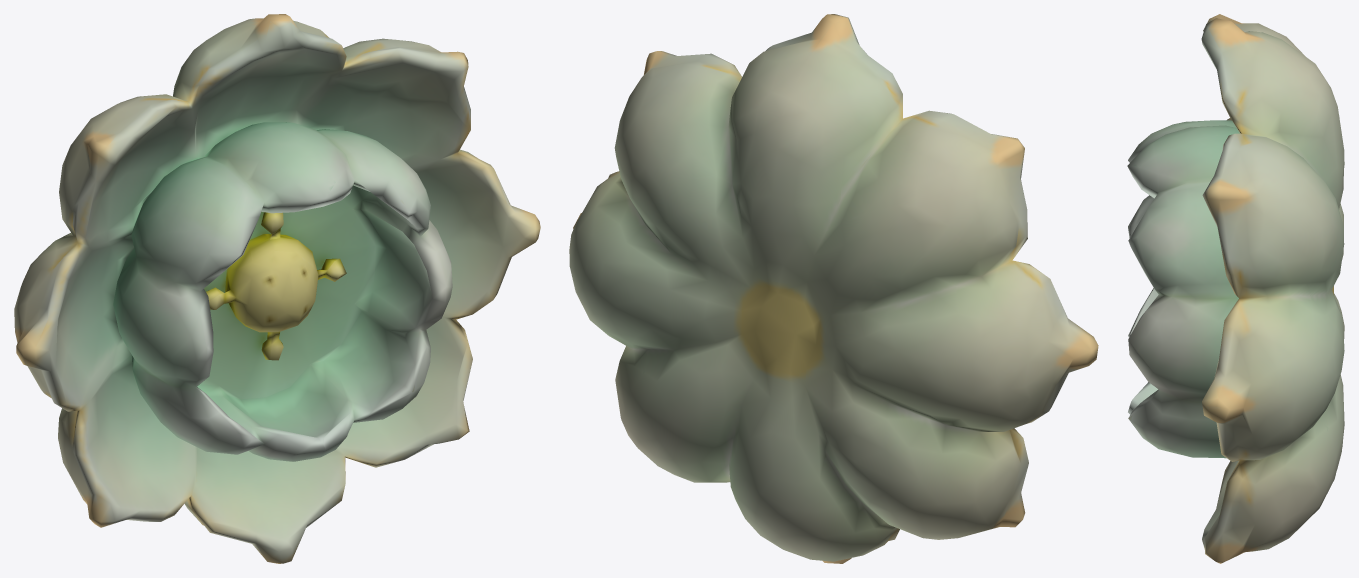
3 renders of one model, left to right at view 1: azimuth 30°, elevation 25°; view 2: azimuth 150°, elevation 25°; view 3: azimuth 270°, elevation 25°, orthographic. The views are drawn at different scales.
Visible parts, largest first — view 1: pendant-jade-lotus; view 2: pendant-jade-lotus; view 3: pendant-jade-lotus.
Boxes of the visible parts, left/top/right/bottom form: pendant-jade-lotus: left=14, top=14, right=540, bottom=563; pendant-jade-lotus: left=569, top=14, right=1098, bottom=563; pendant-jade-lotus: left=1127, top=14, right=1344, bottom=563.
Bounding box in the file's own units: 0.2008 × 0.2016 × 0.0745.
Materials: 1 (1 with a texture image).
